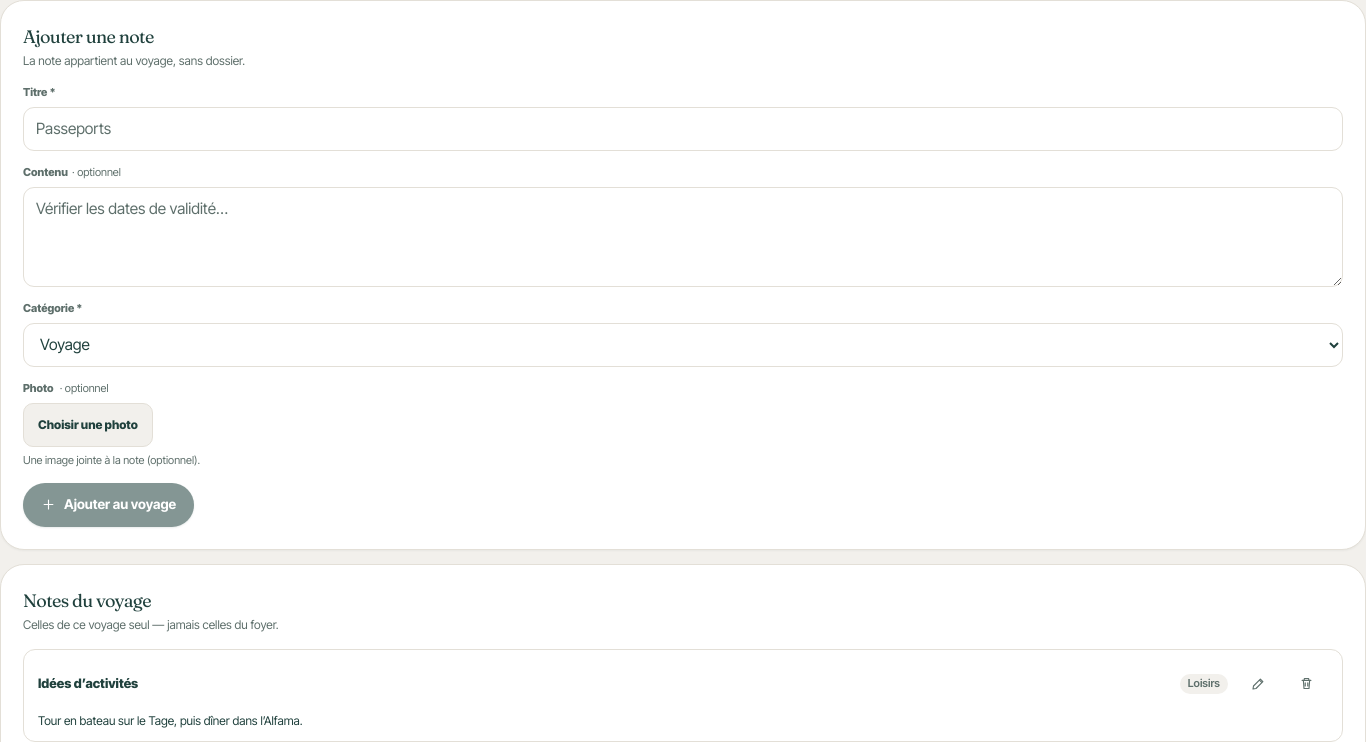
Test: TripNotesTab — étanchéité du voyage (15-03) › la création depuis l’onglet porte trip_id, sans dossier
The width and height of the screenshot is (1366, 742).
Type "Horaires de bateau" into the field labelled "Titre *" at (683, 129), box [23,107,1343,151]
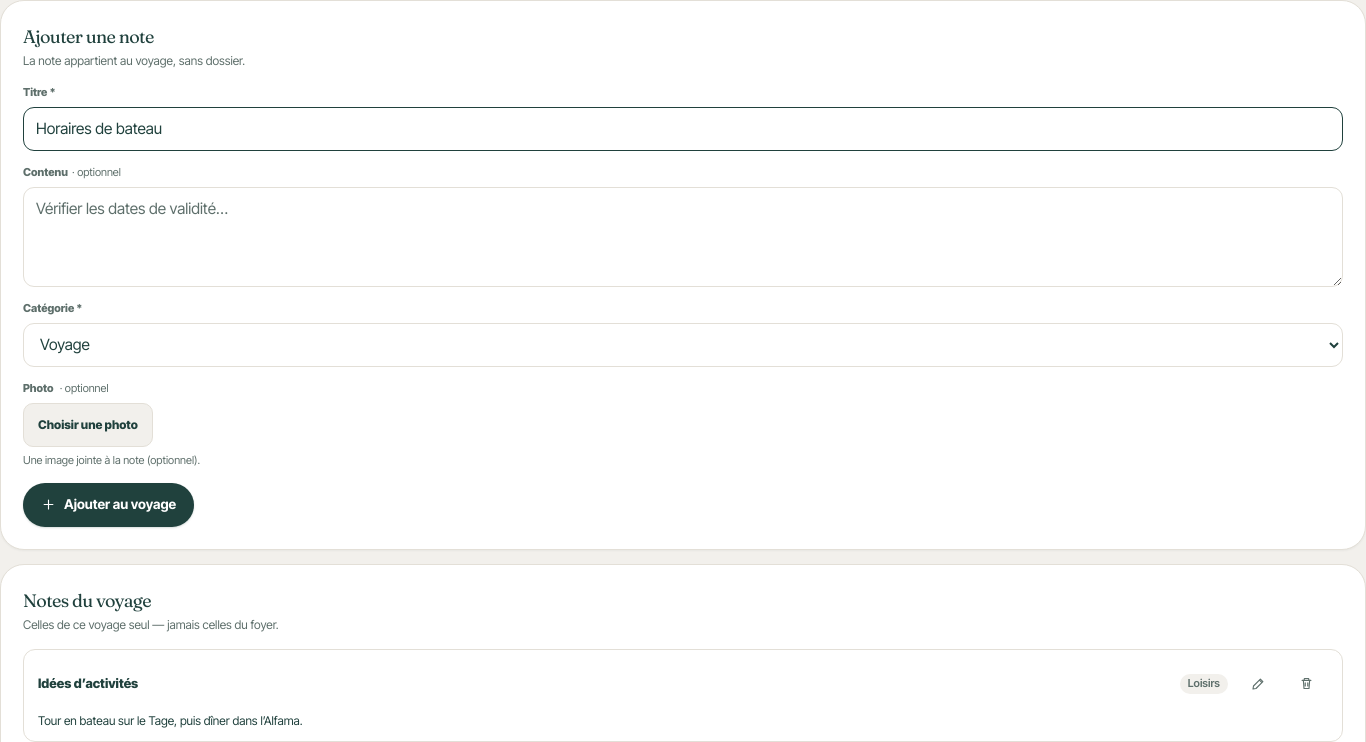
Click the button "Ajouter au voyage" at (109, 505), box [23,483,194,527]
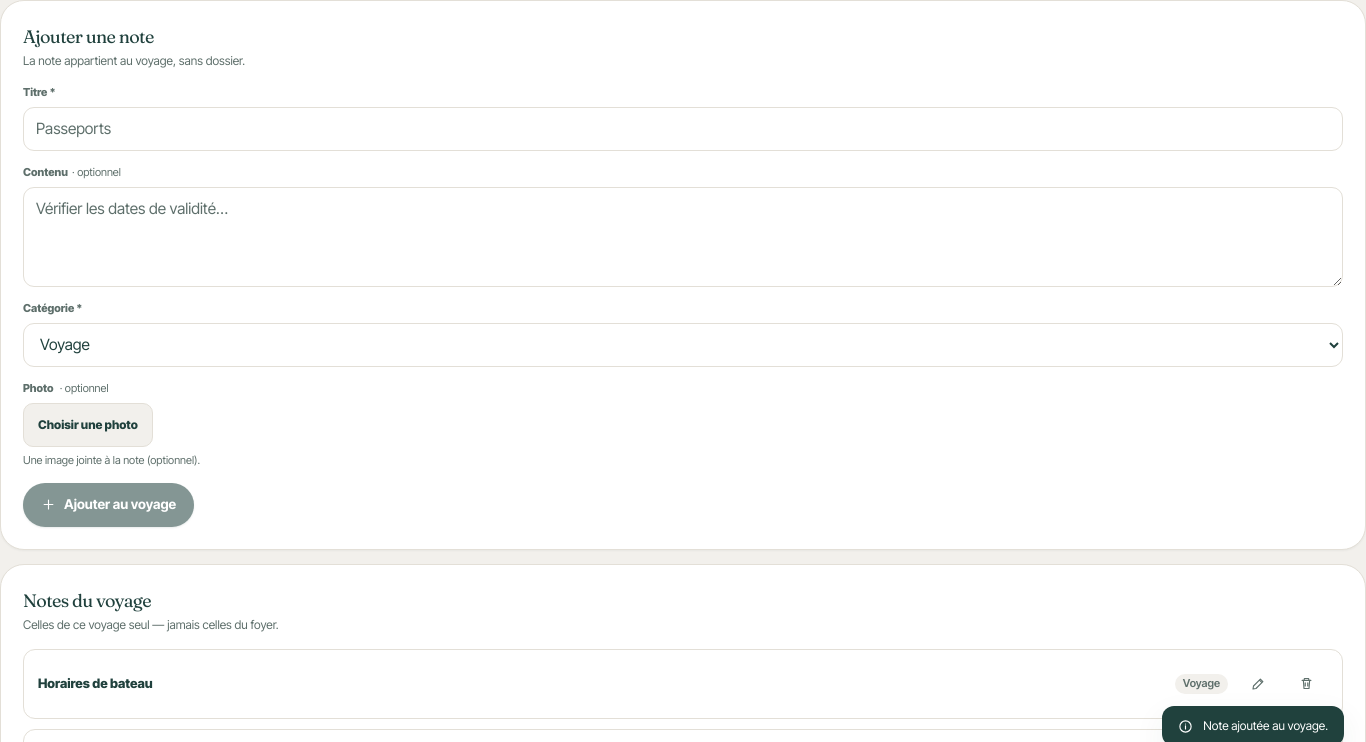
Check: the text "Horaires de bateau" is shown, box [38,675,153,691]
